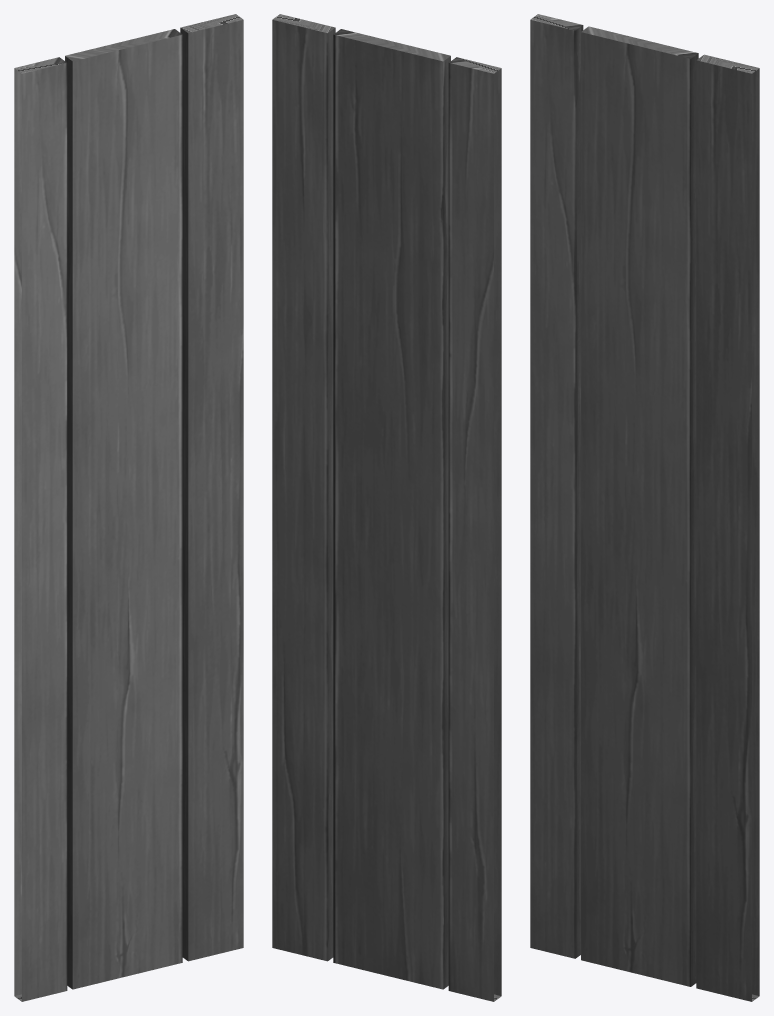
Rendered from WallPlankShort01.fbx.
3 views of the same model, side by side, from view 1: azimuth 30°, elevation 25°; view 2: azimuth 150°, elevation 25°; view 3: azimuth 330°, elevation 25° (orthographic).
Parts seen in each view (by area): view 1: WallPlankShort01_LOD0; view 2: WallPlankShort01_LOD0; view 3: WallPlankShort01_LOD0.
Boxes of the visible parts, x1,y1,x2,y2 form: WallPlankShort01_LOD0: (14, 14, 243, 1001); WallPlankShort01_LOD0: (272, 14, 501, 1001); WallPlankShort01_LOD0: (530, 14, 759, 1001).
Size of what is drawn, in the model's own units: 0.5 by 2 by 0.0306.
